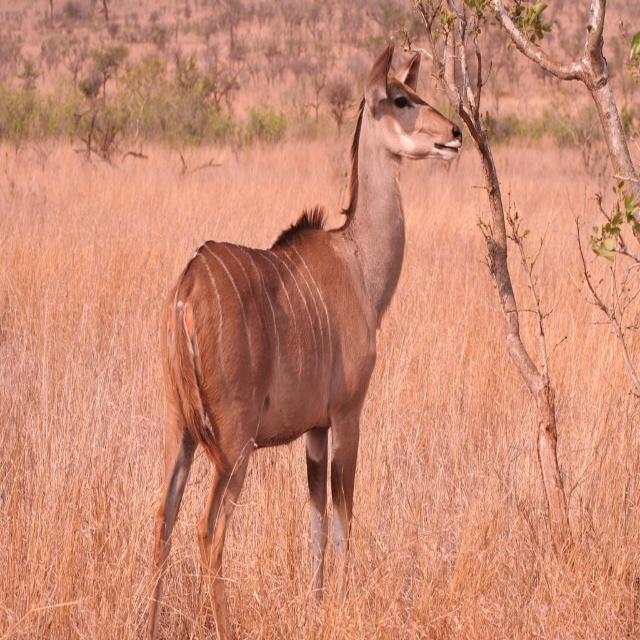Deer: (146, 37, 463, 640)
